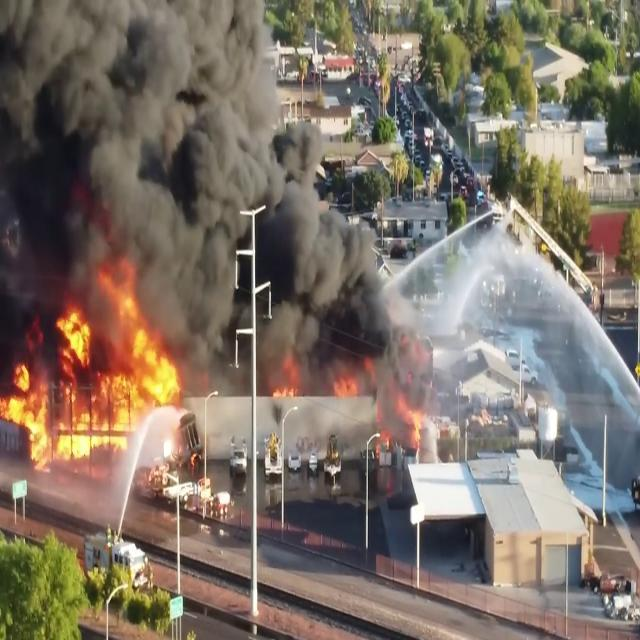Fire: (1, 296, 175, 464)
Smoke: (0, 2, 438, 375)
